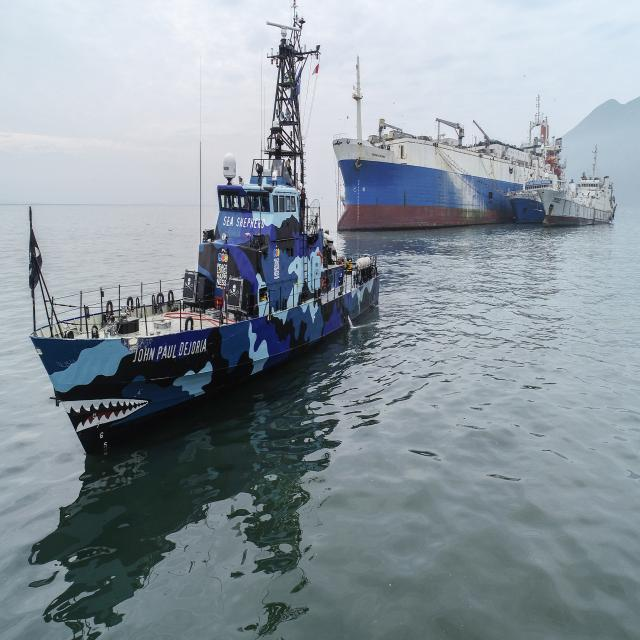boat: (16, 19, 384, 473)
